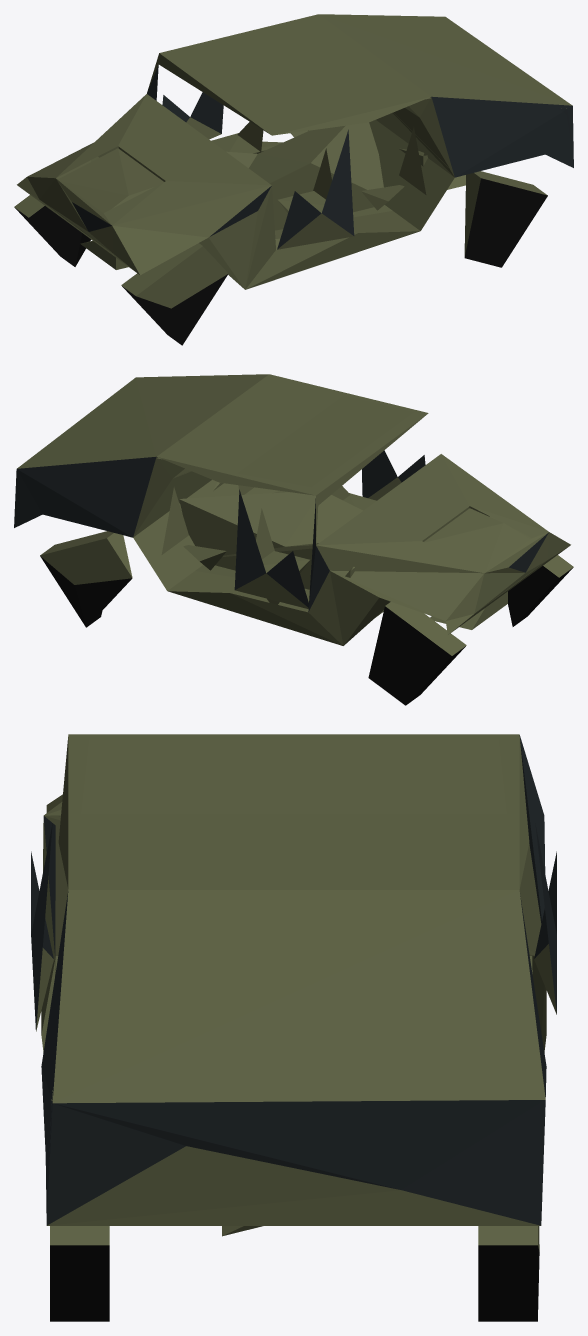
Rendered from humvee.paint-v1.lod2.glb.
The picture shows the model from 3 angles, top to bottom: view 1: azimuth 30°, elevation 25°; view 2: azimuth 150°, elevation 25°; view 3: azimuth 270°, elevation 25°; orthographic projection. The views are drawn at different scales.
Visible parts, largest first — view 1: humvee.001_Material_0; view 2: humvee.001_Material_0; view 3: humvee.001_Material_0.
Part boxes in pixels (bbox=[...]): humvee.001_Material_0: bbox=[14, 14, 573, 345]; humvee.001_Material_0: bbox=[14, 374, 573, 705]; humvee.001_Material_0: bbox=[31, 734, 556, 1321].
Size of the model in its own units: 4.63 by 1.88 by 2.41.
